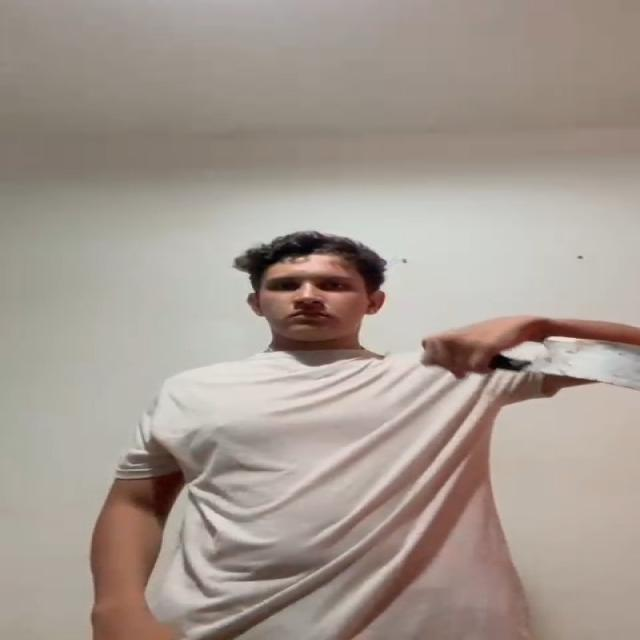knife: (533, 332, 640, 393)
